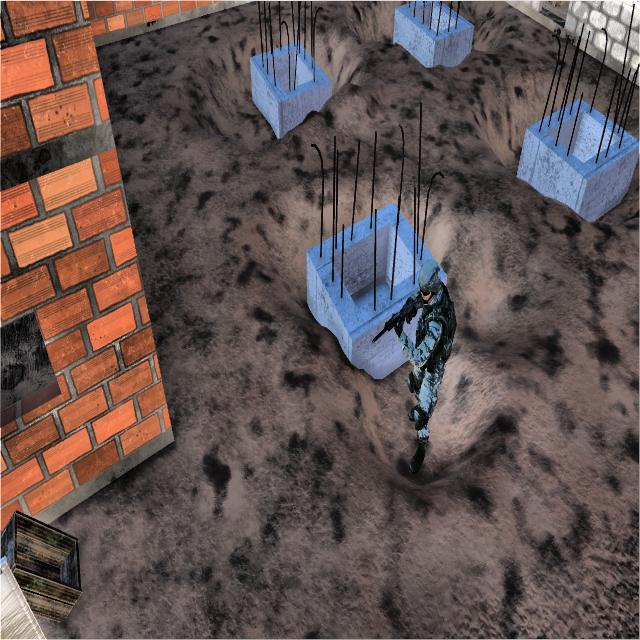bad: (357, 245, 461, 491)
